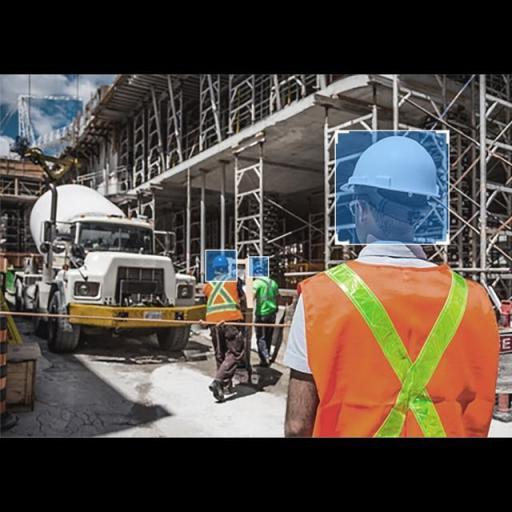Person: (274, 120, 499, 443), (198, 234, 244, 420), (239, 251, 293, 391)
helmet: (338, 130, 444, 206), (210, 254, 232, 275), (249, 255, 269, 277)
vest: (284, 254, 498, 437), (198, 275, 251, 332), (248, 270, 282, 317)
